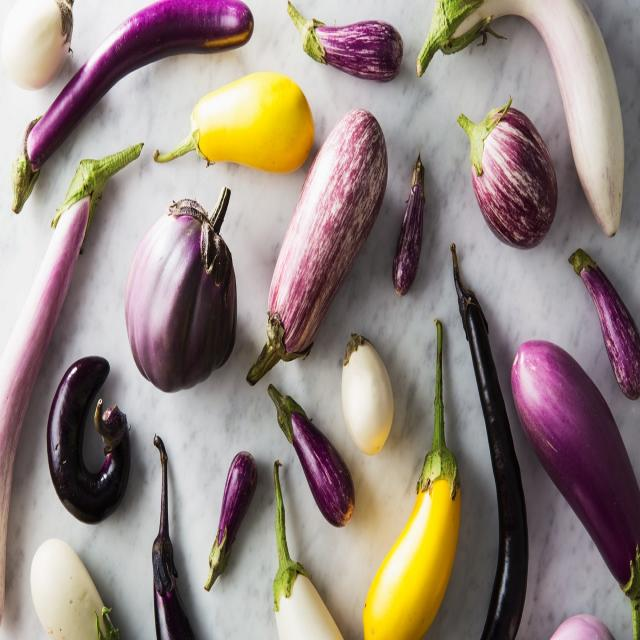eggplant: (126, 200, 236, 394), (253, 175, 353, 375), (511, 339, 616, 475), (466, 98, 558, 251), (30, 155, 105, 340), (274, 392, 352, 528), (573, 249, 640, 388), (12, 84, 78, 214), (299, 9, 405, 89), (110, 0, 258, 56), (202, 446, 258, 594), (339, 329, 394, 455), (1, 0, 74, 88), (392, 151, 427, 299)
